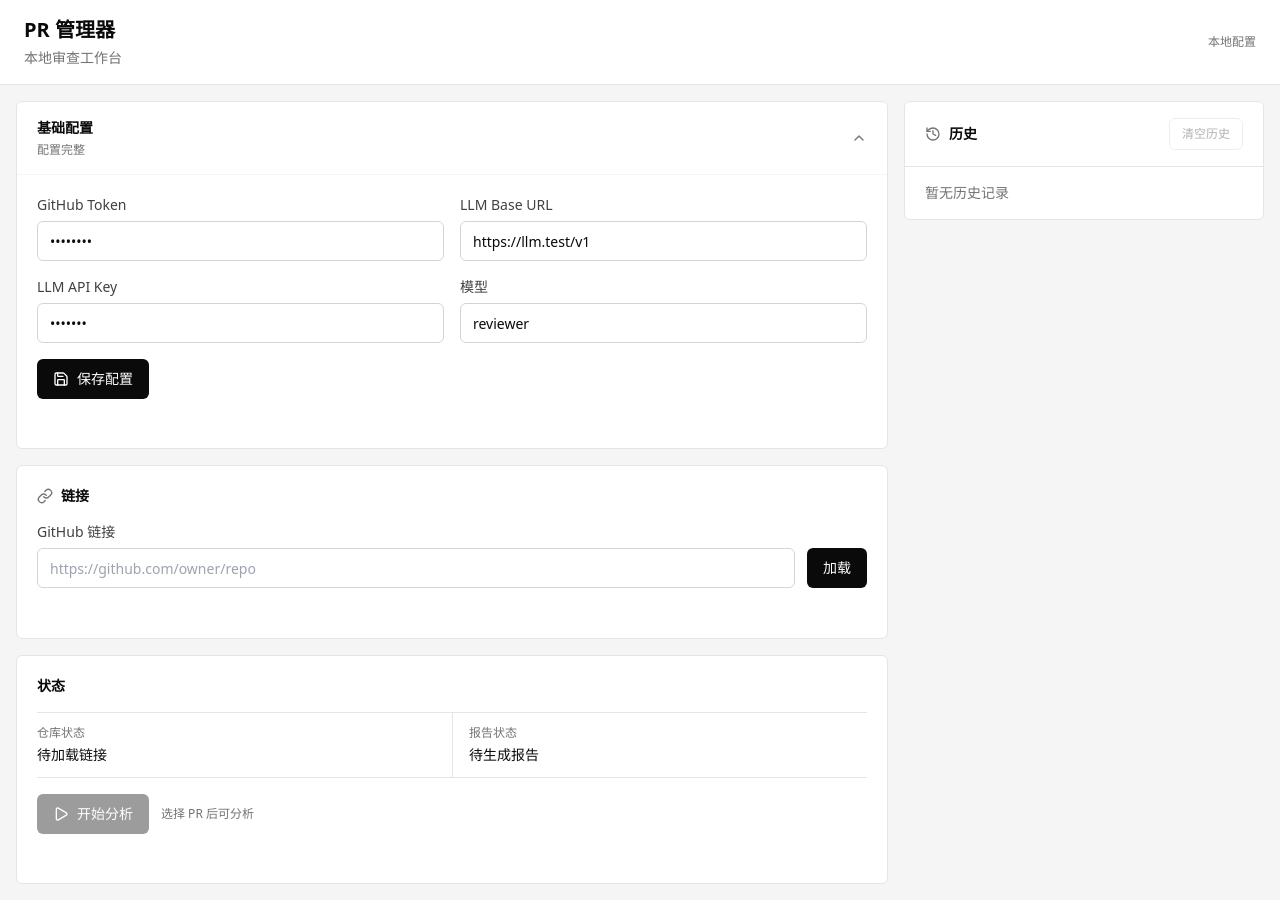
Test: PR selection and analysis flow › shows an error when API URL parsing rejects instead of falling back to local success
In the field labelled "GitHub 链接": [416, 568] box [37, 548, 795, 588], type "https://github.com/octo/repo"
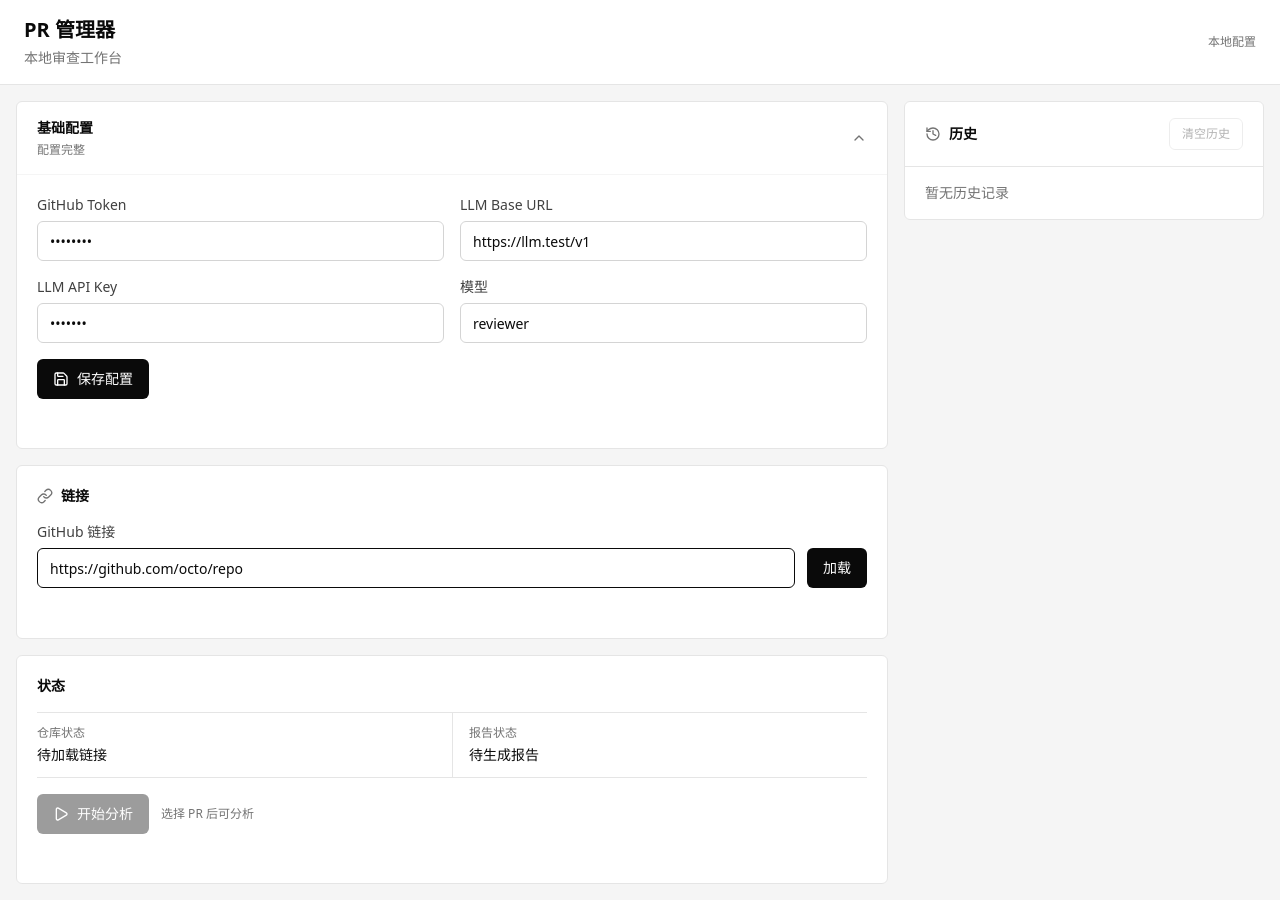
Click the button "加载": [837, 568] box [807, 548, 867, 588]
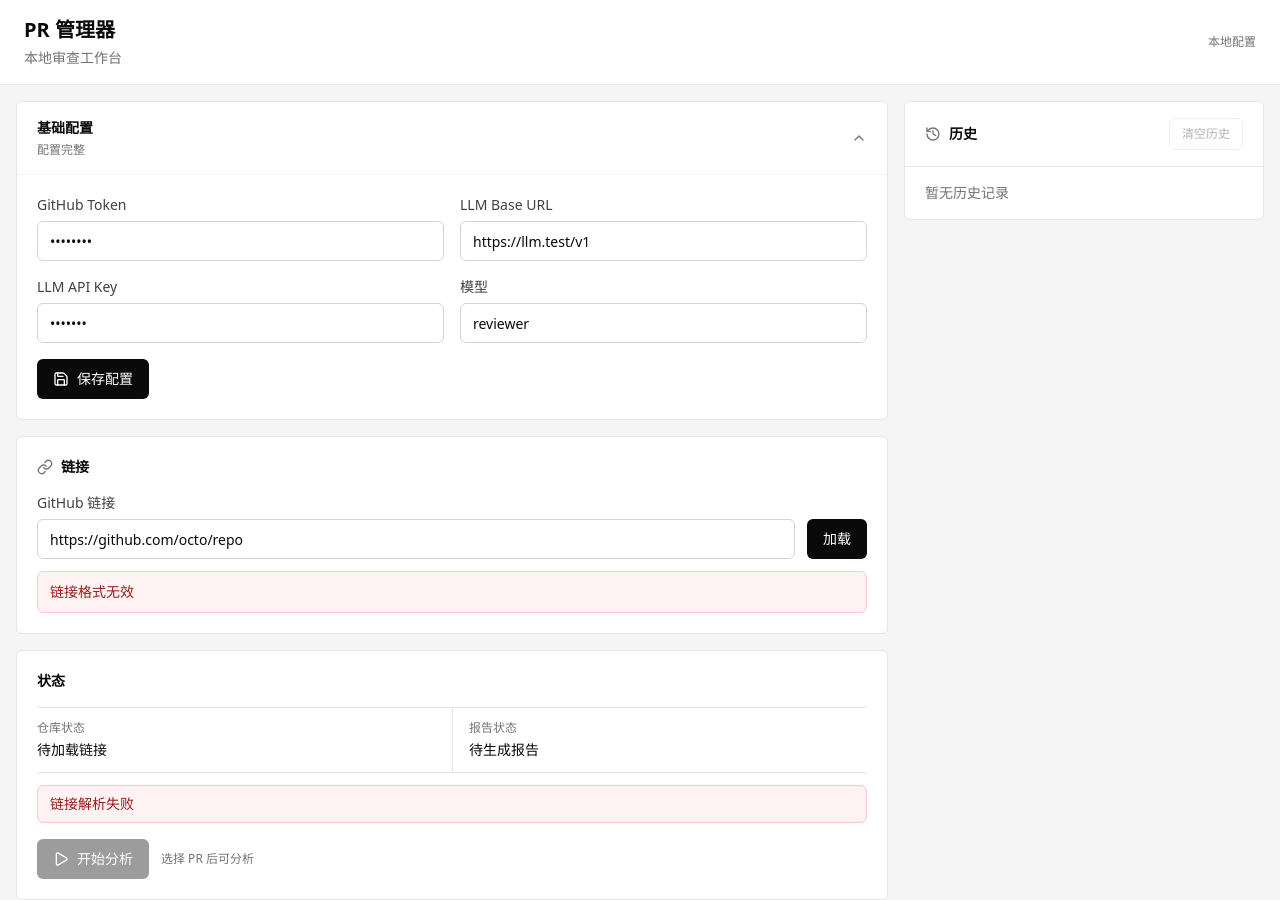
Result: the text "链接格式无效" is shown at [37, 571, 867, 613]
Result: the text "链接解析失败" is shown at [37, 785, 867, 823]
